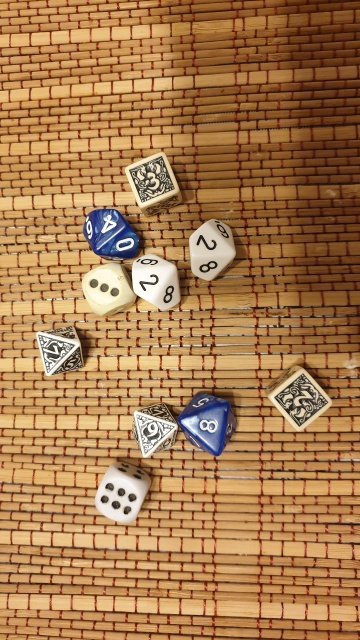d10-2: (180, 211, 240, 286), (132, 252, 182, 312)
d10-4: (77, 207, 148, 263)
d10-8: (176, 383, 241, 462)
d6-3: (80, 256, 134, 314)
d6-6: (88, 459, 160, 527)
d6p-2: (260, 359, 337, 434)
d6p-3: (121, 149, 184, 212)
d8p-6: (121, 399, 179, 457)
d8p-7: (28, 322, 91, 380)
